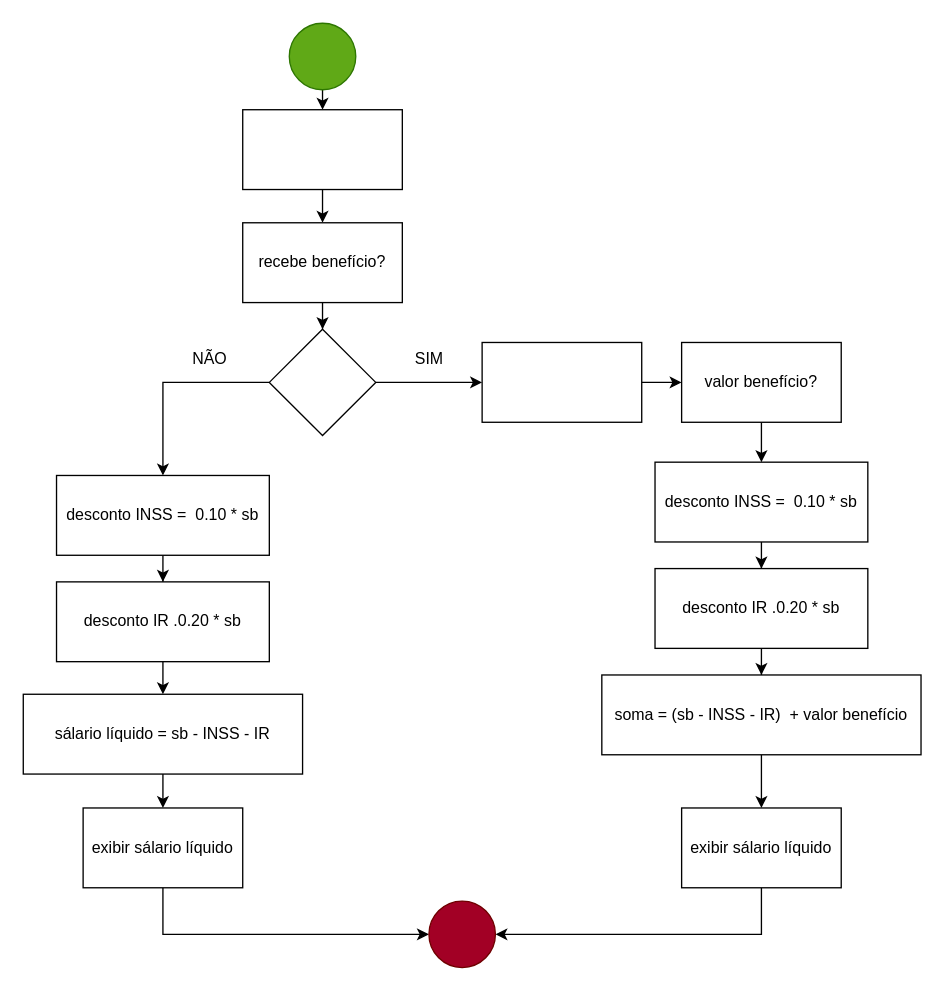
This 944x991 diagram has some shape labels left out. The shapes that lost their labels are listed below. From the top down, each one's box as (x1, y1, x2, y2) in pixels, then its label:
(241, 108, 402, 190): sálario bruto (sb)
(481, 341, 642, 422): nome do benefício?
